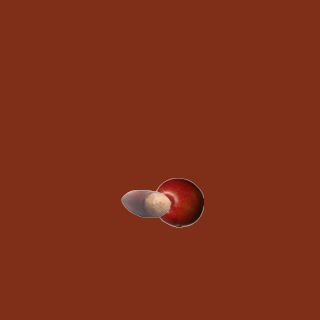Apple Braeburn: (153, 177, 203, 227)
Hazelnut: (120, 178, 170, 228)
